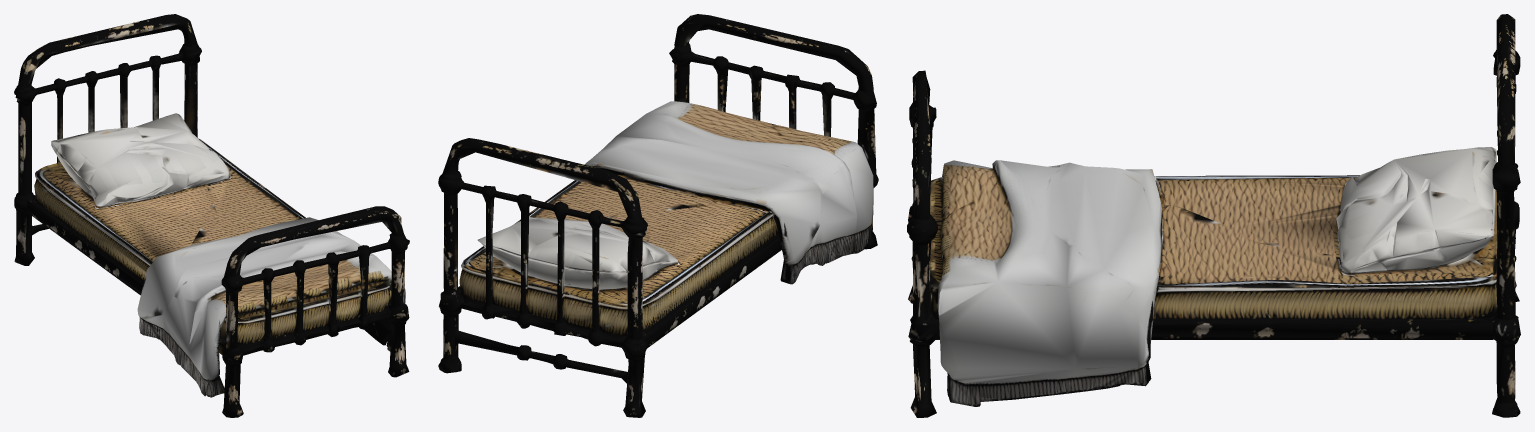
File: lhi_keeper_bed.glb
3 renders of one model, left to right at view 1: azimuth 30°, elevation 25°; view 2: azimuth 150°, elevation 25°; view 3: azimuth 270°, elevation 25°, orthographic. The views are drawn at different scales.
Parts seen in each view (by area): view 1: material; view 2: material; view 3: material.
Part boxes in pixels (bbox=[...]): material: bbox=[14, 14, 409, 417]; material: bbox=[438, 14, 878, 417]; material: bbox=[907, 14, 1520, 417].
Bounding box in the file's own units: 0.524 × 0.5277 × 0.9826.
1 material, 1 textured.
